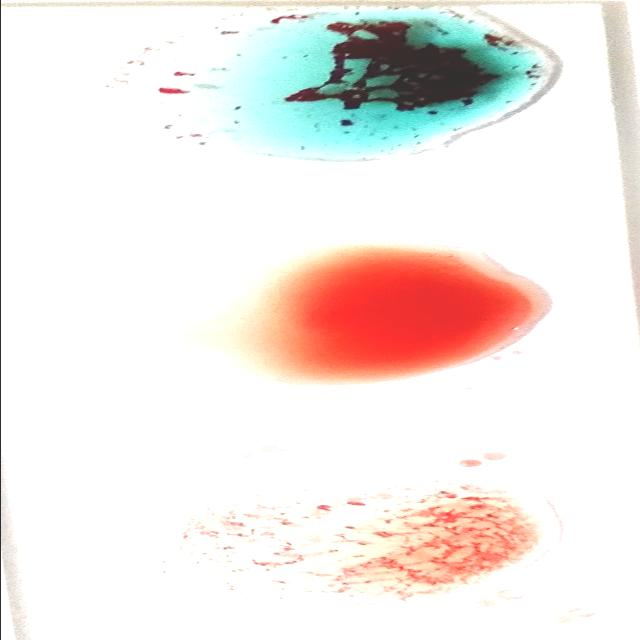A: (129, 8, 572, 162)
D: (142, 480, 552, 602)
